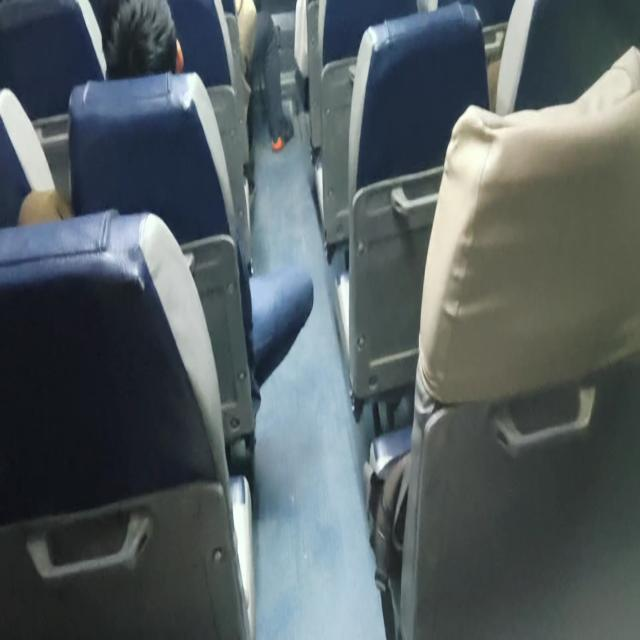person: (103, 0, 313, 419), (234, 0, 294, 152), (104, 0, 184, 79)
